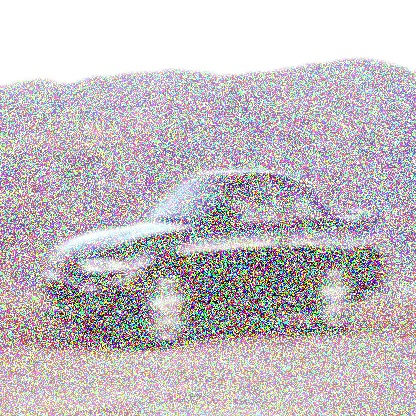Vehicle: (40, 167, 387, 354)
